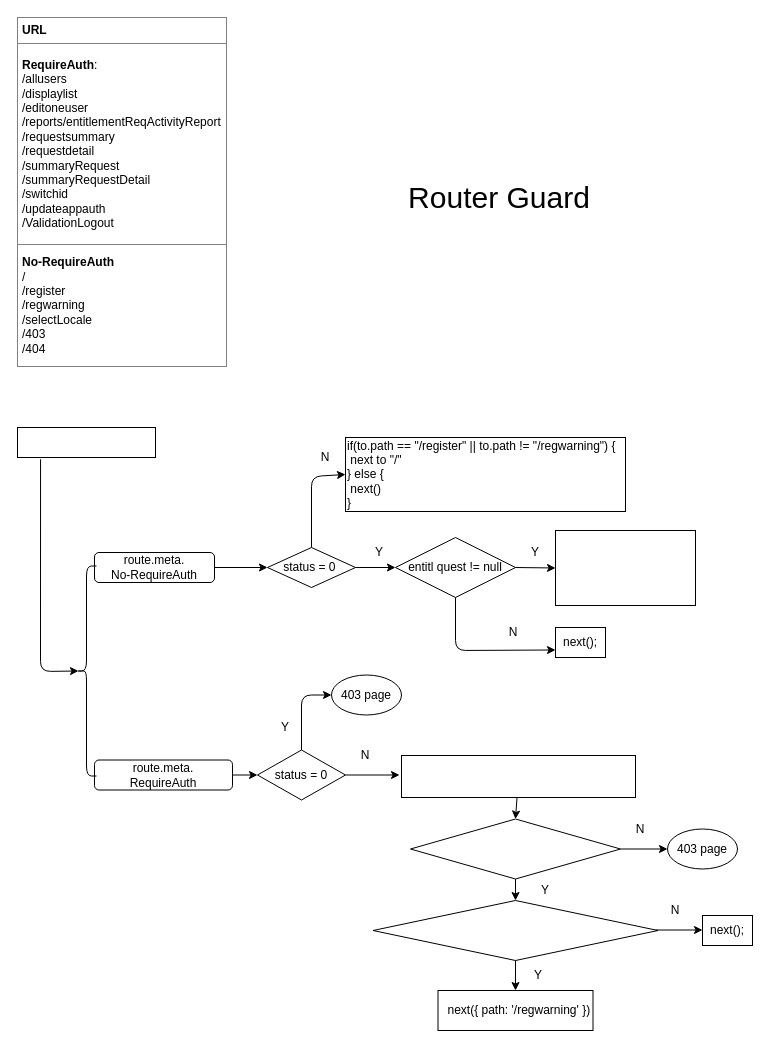
Image size: 770x1048. Some labels were removed from this diagram. Here are the shapes that lost their labels. From the top down, the centre of each, then its label:
point (86, 442): Router.beforeEach
point (625, 568): if(to.path == "/ register ") { next to "/regwarning" } else { next() }
point (518, 776): router_roles = to.meta.roles user_roleid = currUser.authorization.roleid
point (515, 848): router_roles .includes[user_roleid]
point (515, 930): if (to.path === '/updateappauth' && currUser.entitlementrequest )
